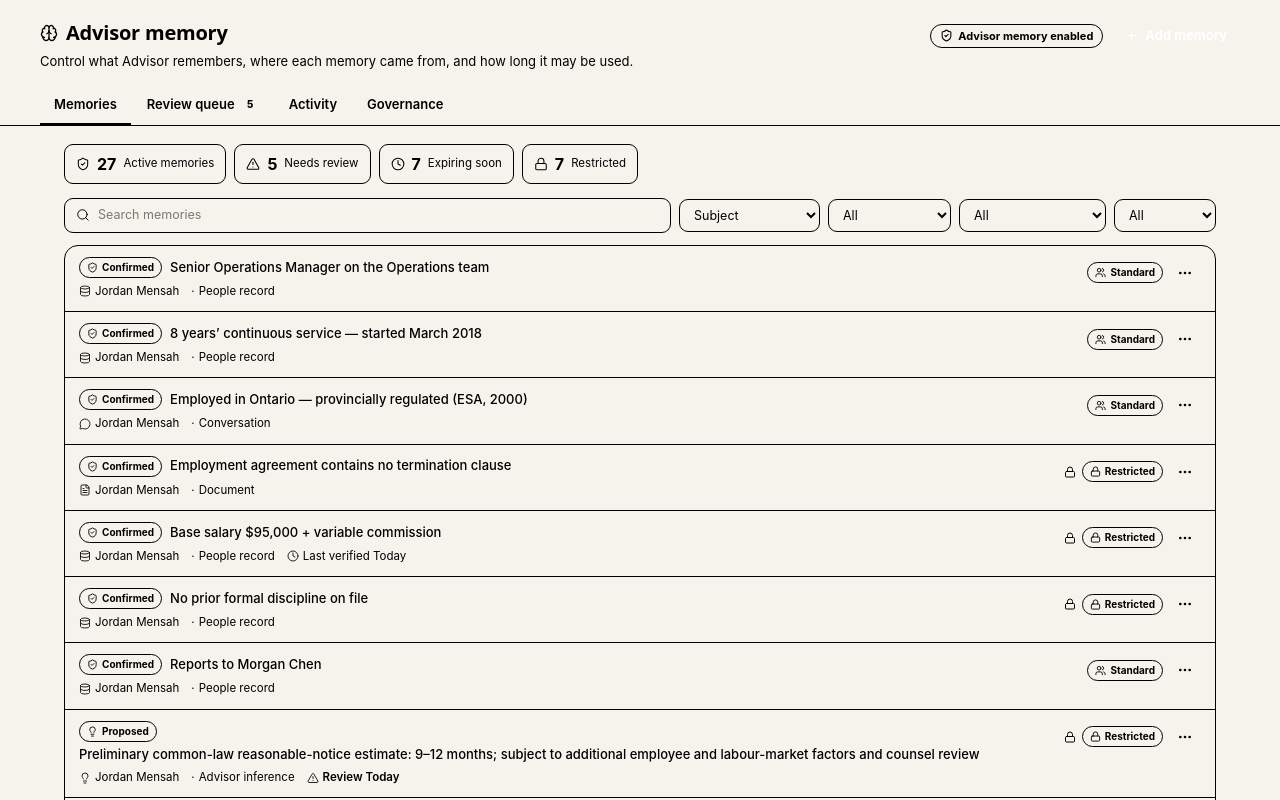
Test: Advisor Memory surfaces › MemoryManagerView (new four-tab workspace) › searches memory statements from the Memories toolbar
The image size is (1280, 800).
Type "vacation" into the field with placeholder "Search memories". click: (378, 215)
box: [98,206,659,225]
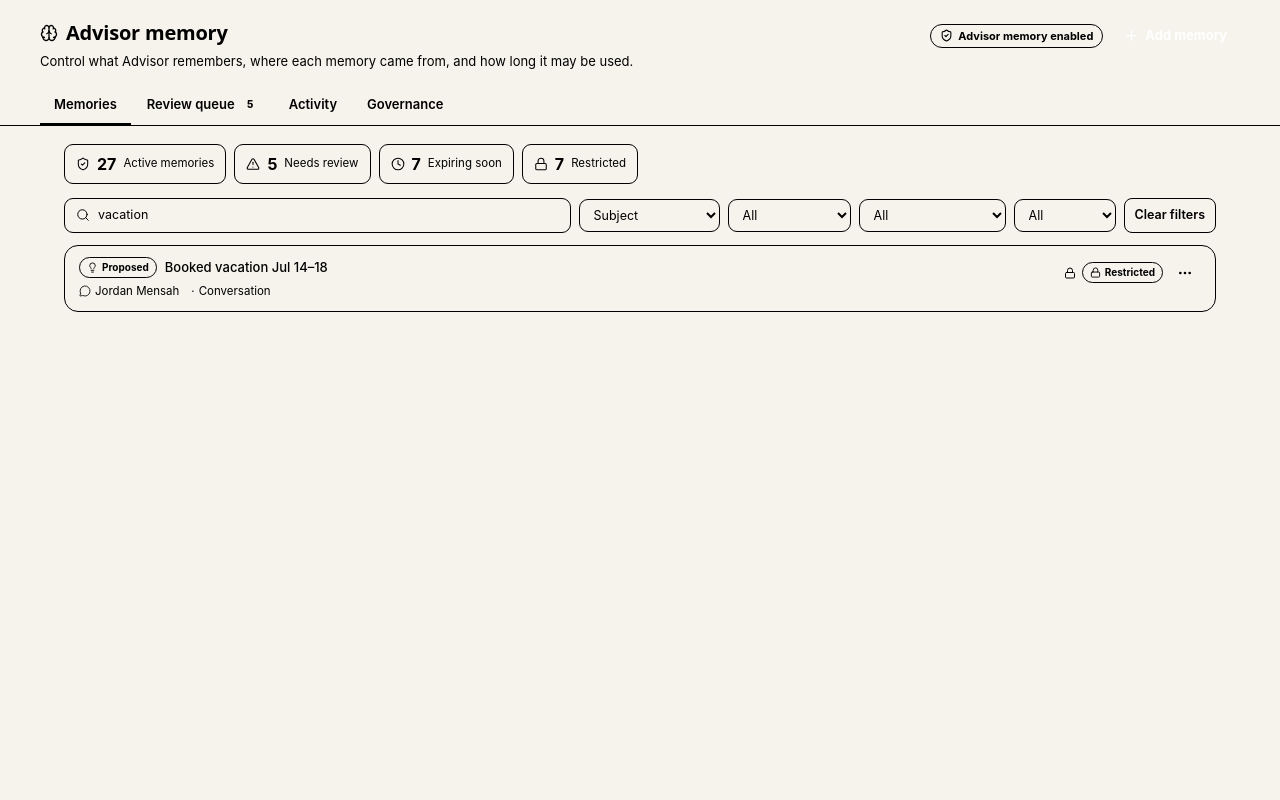
Check: the text "Booked vacation Jul 14–18" is shown, box [165,258,328,277]
Check: the button "Reports to Morgan Chen" is gone
